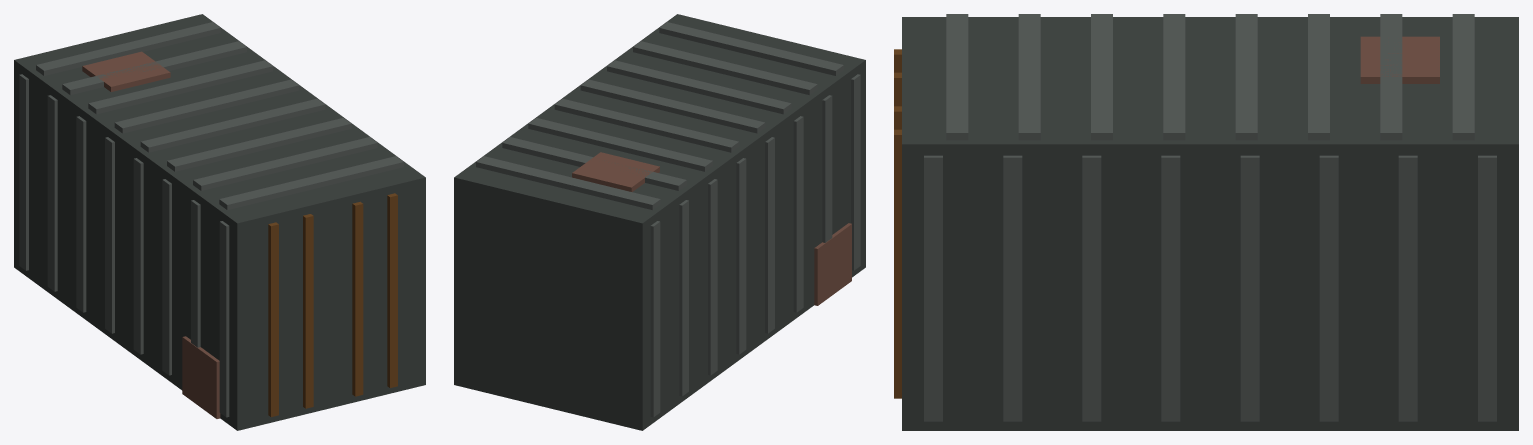
File: ancient_container_medium_1.obj
3 renders of one model, left to right at view 1: azimuth 30°, elevation 25°; view 2: azimuth 150°, elevation 25°; view 3: azimuth 270°, elevation 25°, orthographic. The views are drawn at different scales.
Visible parts, largest first — view 1: ancient_container_medium_1; view 2: ancient_container_medium_1; view 3: ancient_container_medium_1.
Boxes of the visible parts, x1,y1,x2,y2 form: ancient_container_medium_1: [14, 14, 425, 430]; ancient_container_medium_1: [454, 14, 865, 430]; ancient_container_medium_1: [894, 14, 1518, 430].
Bounding box in the file's own units: 1.97 × 2.05 × 3.95.
